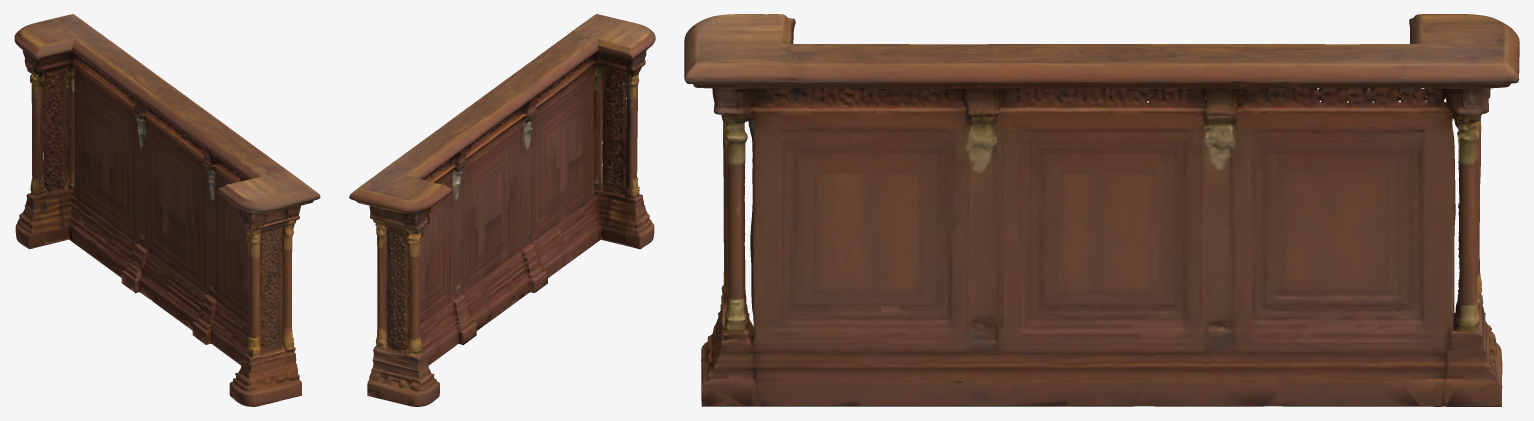
File: woodwall2.glb
3 renders of one model, left to right at view 1: azimuth 30°, elevation 25°; view 2: azimuth 150°, elevation 25°; view 3: azimuth 270°, elevation 25°, orthographic. The views are drawn at different scales.
Parts seen in each view (by area): view 1: Mesh_0.002; view 2: Mesh_0.002; view 3: Mesh_0.002.
Part boxes in pixels (<box>): Mesh_0.002: <box>14,14,320,406</box>; Mesh_0.002: <box>349,14,655,406</box>; Mesh_0.002: <box>684,14,1519,406</box>.
Size of the model in its own units: 0.3364 by 0.9262 by 2.
1 material, 1 textured.
